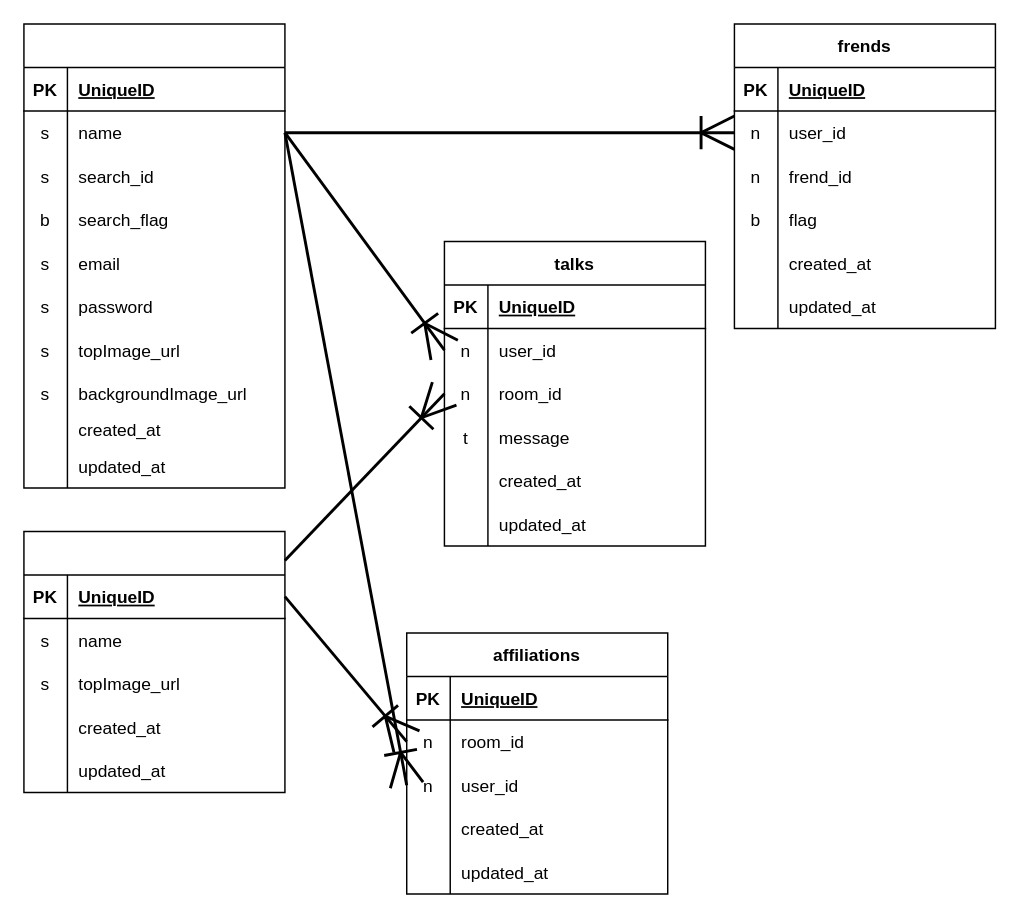
The diagram is 1019 pixels wide and 918 high, and some of its shapes have lost their labels. Here are the shapes that lost their labels. From the top down, the box of each, then its label:
(22, 22, 285, 488): users
(22, 530, 285, 792): rooms
